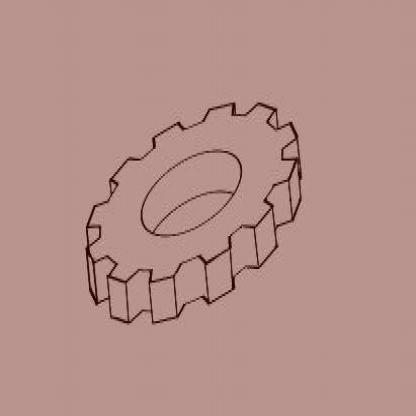FOD: (82, 93, 304, 333)
